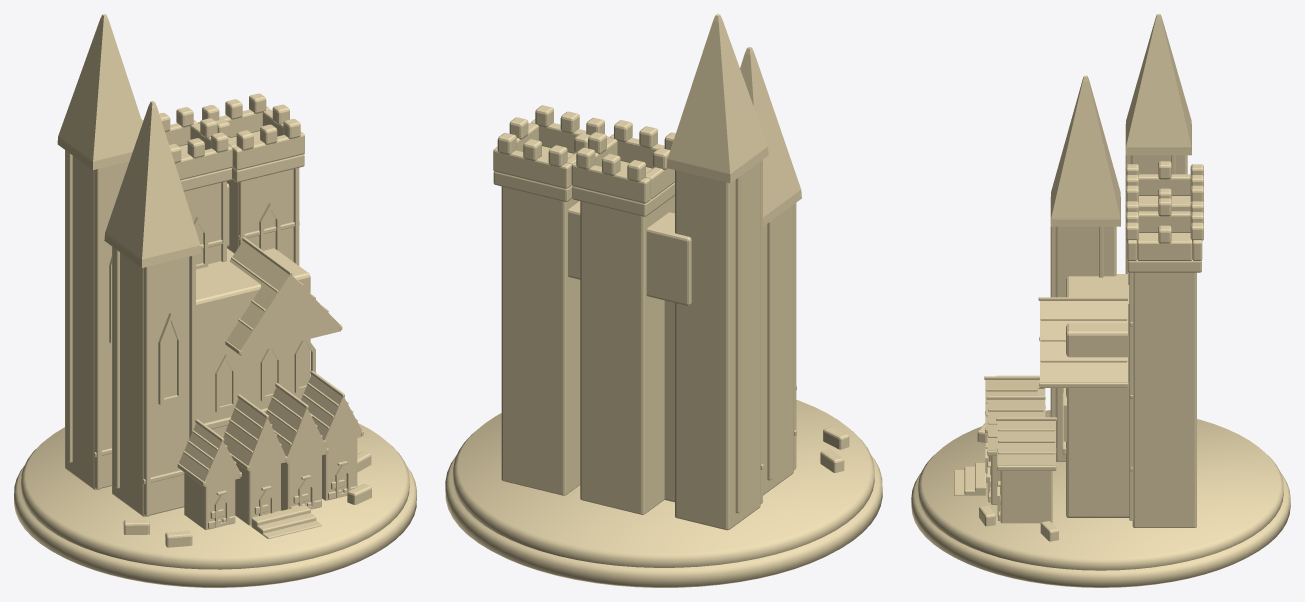
Rendered from metropolis-beige.fbx.
3 views of the same model, side by side, from view 1: azimuth 30°, elevation 25°; view 2: azimuth 150°, elevation 25°; view 3: azimuth 270°, elevation 25° (orthographic). The views are drawn at different scales.
Parts seen in each view (by area): view 1: Metropolis_Moulded_Sculpt; view 2: Metropolis_Moulded_Sculpt; view 3: Metropolis_Moulded_Sculpt.
Part boxes in pixels (<box>): Metropolis_Moulded_Sculpt: <box>14,14,416,587</box>; Metropolis_Moulded_Sculpt: <box>445,14,882,587</box>; Metropolis_Moulded_Sculpt: <box>911,14,1290,587</box>.
Size of the model in its own units: 0.018 by 0.024 by 0.018.
